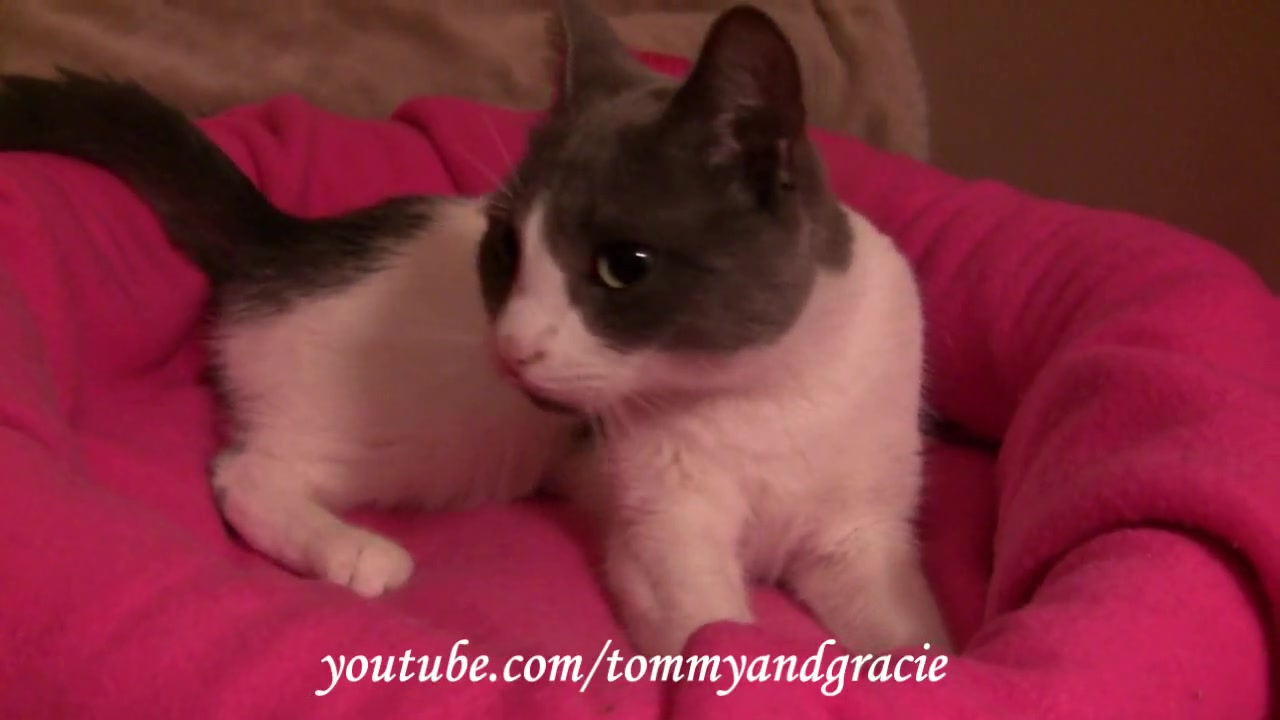cat: (4, 3, 954, 658)
